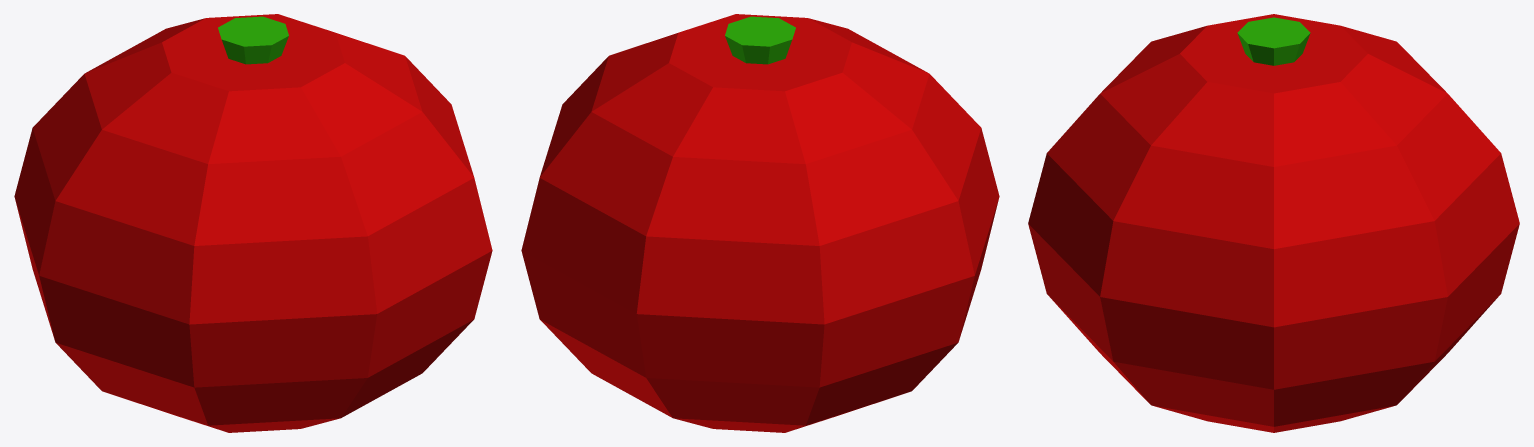
The model's file is apple.fbx.
3 views of the same model, side by side, from view 1: azimuth 30°, elevation 25°; view 2: azimuth 150°, elevation 25°; view 3: azimuth 270°, elevation 25° (orthographic).
Parts seen in each view (by area): view 1: apple; view 2: apple; view 3: apple.
Part boxes in pixels (x1=…): apple: x1=14, y1=14, x2=492, y2=432; apple: x1=521, y1=14, x2=999, y2=432; apple: x1=1028, y1=14, x2=1519, y2=432.
Size of the model in its own units: 62.67 by 52.63 by 62.67.
